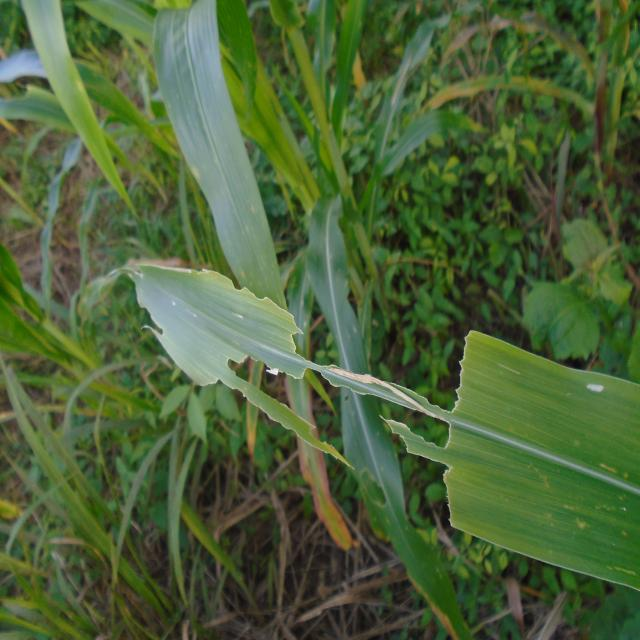fall-armyworm-larval-damage: (235, 348, 354, 475), (443, 320, 481, 540), (216, 267, 285, 313)
healthy-maize: (162, 18, 236, 183)
